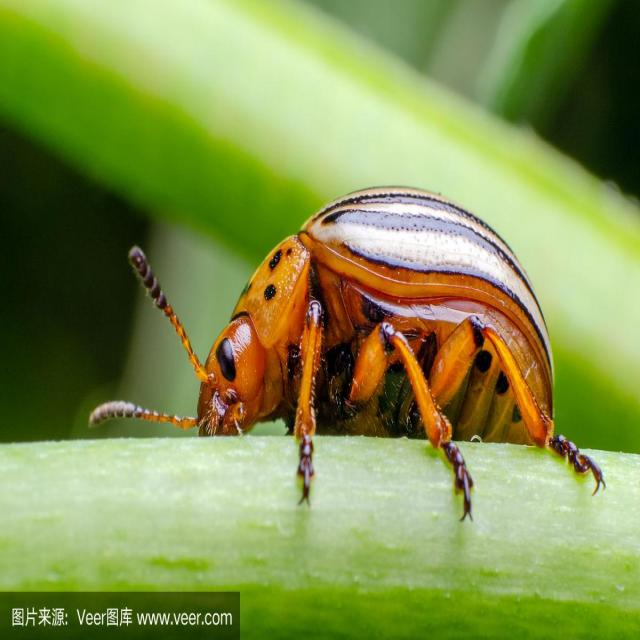ShuCaiHuaBanChong-Grown-: (148, 178, 556, 480)
